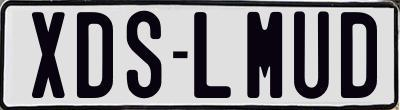D: (75, 10, 115, 99), (341, 11, 379, 99)
L: (191, 10, 234, 96)
M: (246, 10, 281, 99)
S: (124, 8, 165, 97)
U: (292, 10, 331, 98)
X: (31, 11, 66, 98)
